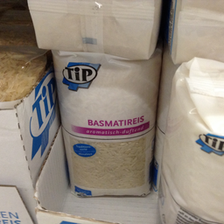rice: (52, 51, 162, 197)
